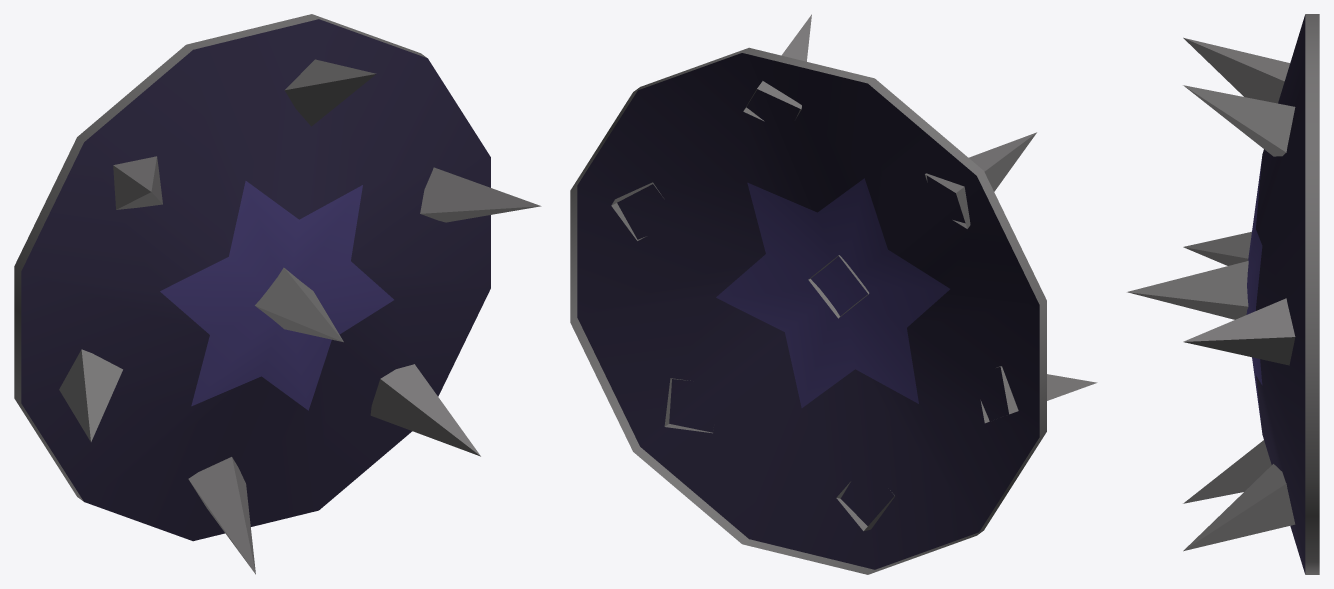
File: lantern-shield.glb
3 views of the same model, side by side, from view 1: azimuth 30°, elevation 25°; view 2: azimuth 150°, elevation 25°; view 3: azimuth 270°, elevation 25° (orthographic).
Visible parts, largest first — view 1: Shield - Lantern Shield - Clint Bellanger; view 2: Shield - Lantern Shield - Clint Bellanger; view 3: Shield - Lantern Shield - Clint Bellanger.
Part boxes in pixels (left/top/right/bottom): Shield - Lantern Shield - Clint Bellanger: left=14, top=14, right=541, bottom=574; Shield - Lantern Shield - Clint Bellanger: left=570, top=14, right=1097, bottom=574; Shield - Lantern Shield - Clint Bellanger: left=1127, top=14, right=1319, bottom=574.
Size of the model in its own units: 0.3512 by 0.3512 by 0.1233.
